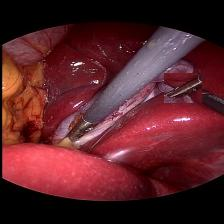Grasper: (58, 118, 102, 148), (162, 73, 200, 103)
